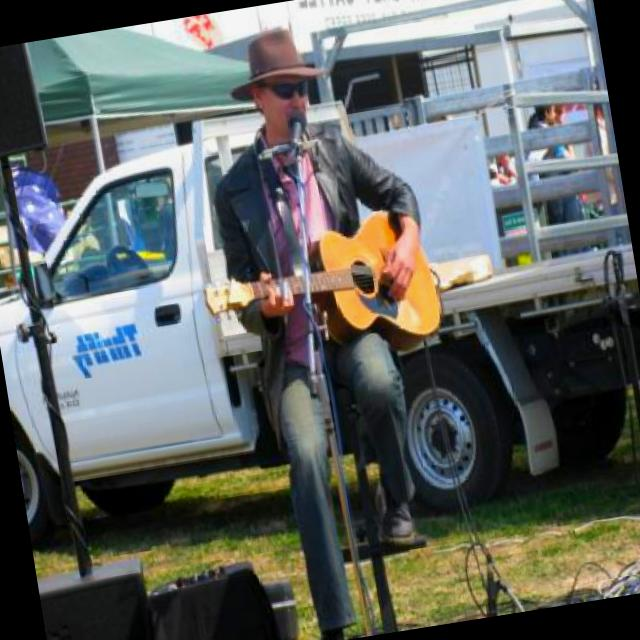Person: (190, 45, 427, 560)
